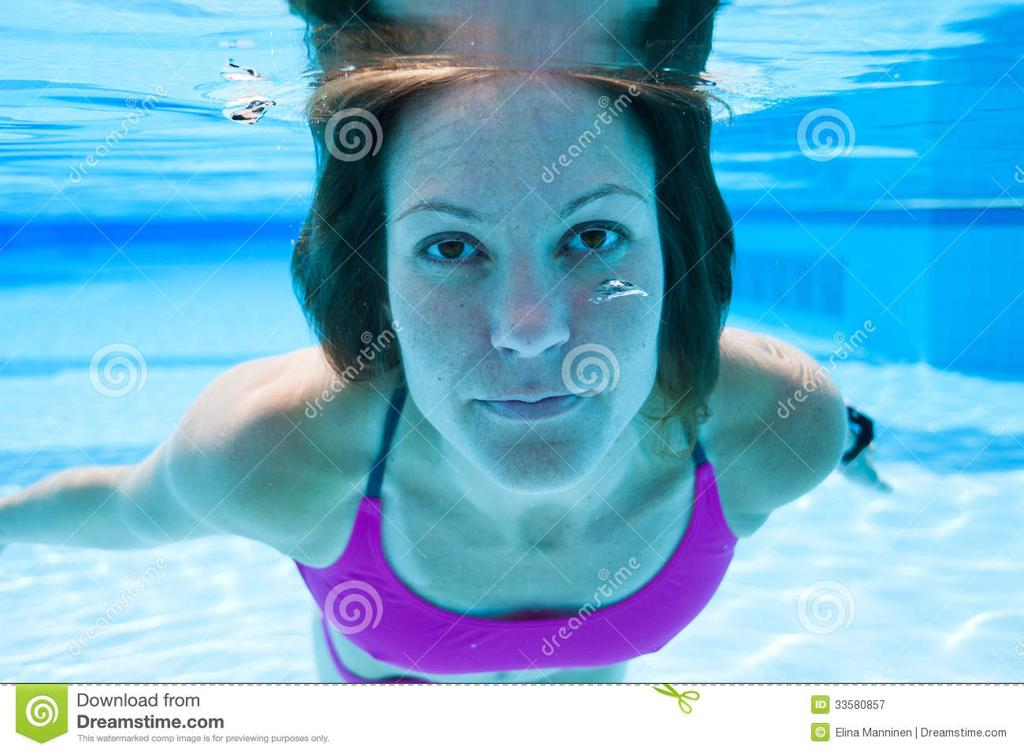face: (386, 116, 666, 488)
